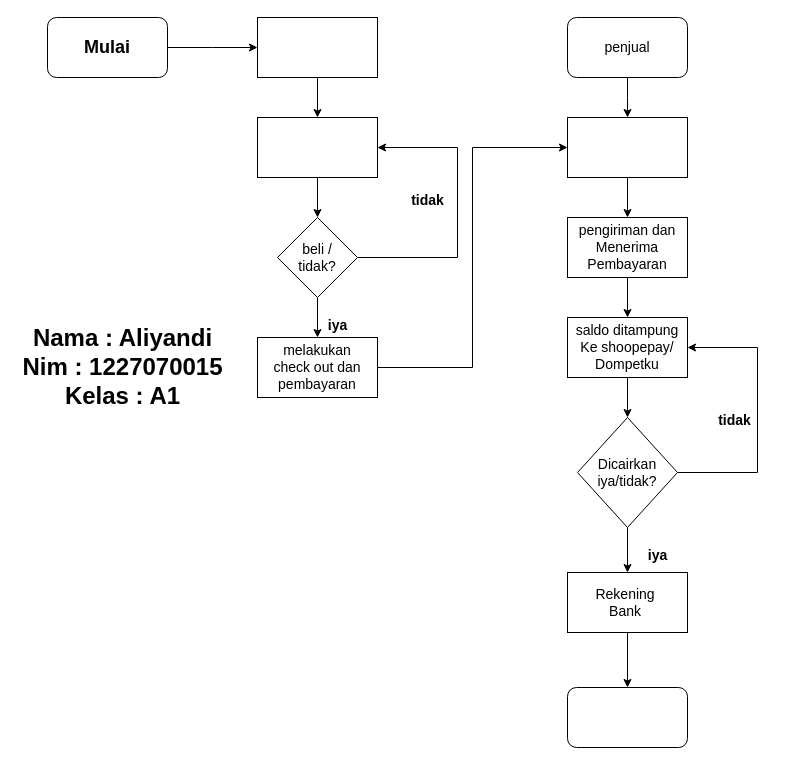
Image size: 801x765. Some labels were removed from this diagram. Each missing label, with the box of its shape:
Menerima pemesanan & Membuat invoice: (566, 116, 688, 178)
Mengakses E-commerce: (256, 116, 378, 178)
pelanggan: (256, 16, 378, 78)
selesai: (566, 686, 688, 748)
